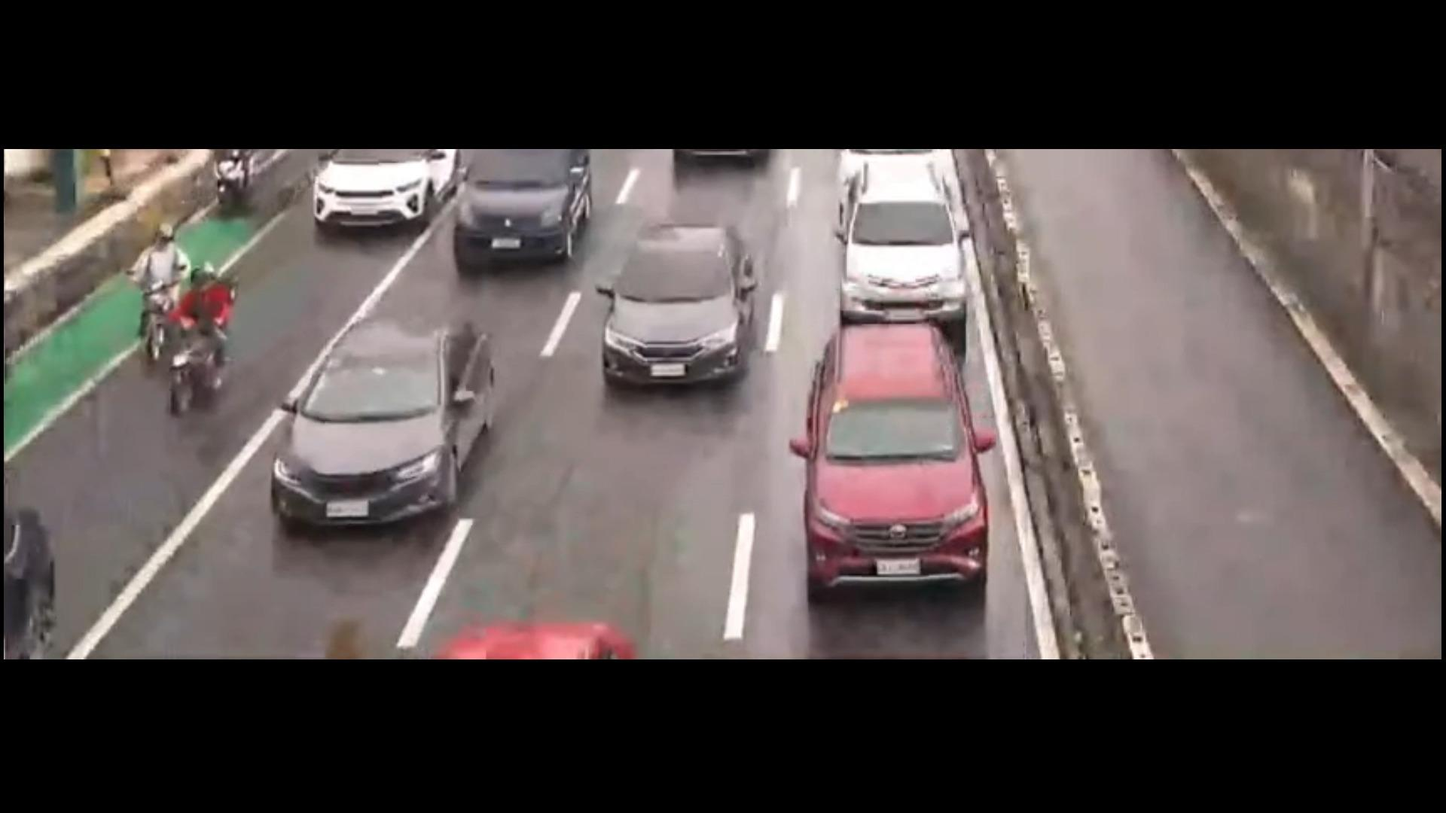Motorcycle: (155, 268, 264, 417), (123, 217, 189, 363), (201, 151, 260, 219)
SUV: (775, 307, 998, 616), (831, 147, 977, 334), (448, 149, 603, 273)
Sedan: (260, 307, 501, 545), (570, 217, 770, 405), (296, 146, 457, 241)
